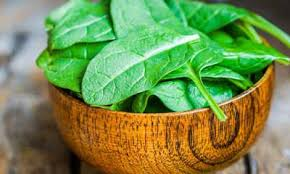spinach: (53, 2, 200, 88)
